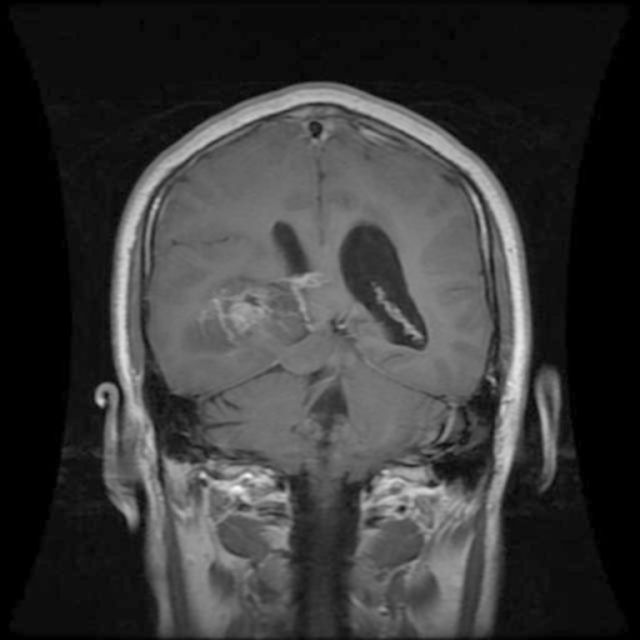pituitary tumor: (204, 282, 270, 346)
